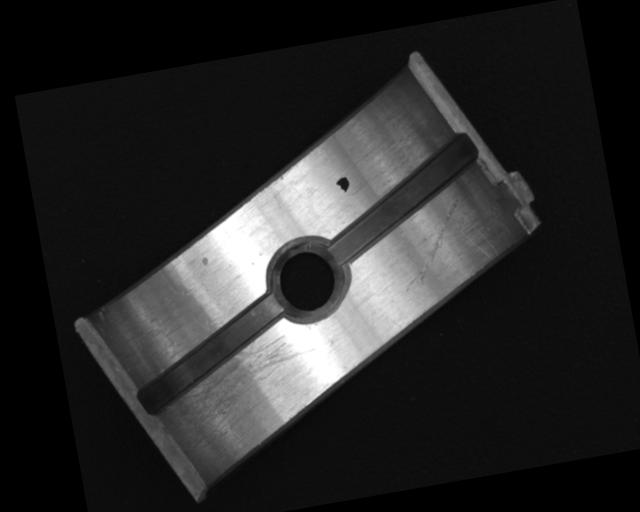blot: (334, 175, 350, 194)
bruise: (200, 256, 209, 267)
gap: (315, 130, 493, 266), (125, 291, 296, 416)
hole: (264, 235, 351, 327)
nick: (390, 197, 474, 293)
scratch: (157, 328, 324, 453)
